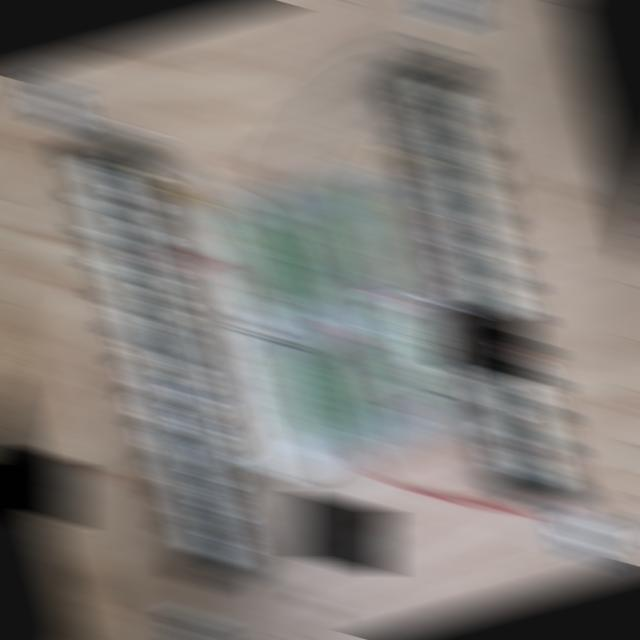Flathead_Block: (394, 52, 586, 513)
Phillips_Block: (58, 130, 255, 592)
Terminal_1: (371, 303, 433, 409), (339, 187, 401, 291)
Terminal_2: (321, 337, 381, 438), (296, 345, 356, 446), (232, 221, 292, 321), (259, 213, 318, 312), (286, 205, 345, 304)
